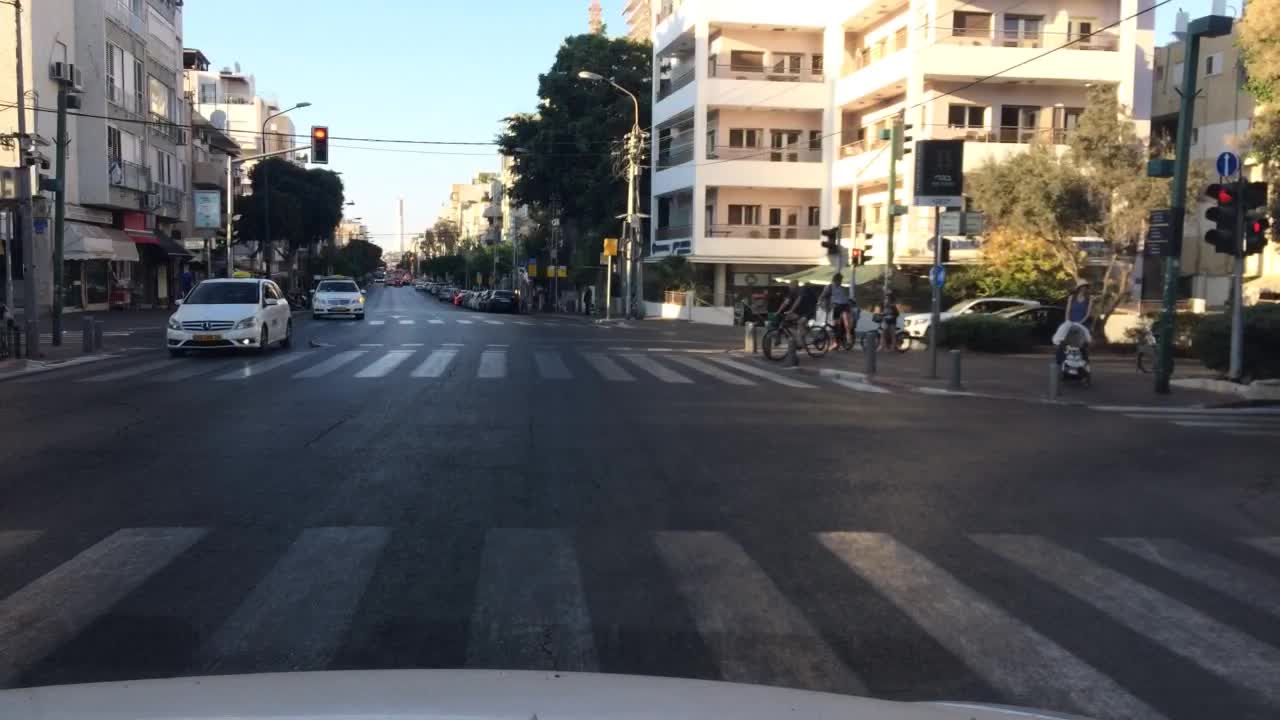bike: (764, 310, 830, 359), (822, 307, 864, 353), (867, 319, 911, 352)
car: (162, 275, 297, 359), (905, 295, 1032, 338), (988, 304, 1088, 333), (311, 276, 366, 319), (486, 289, 518, 313), (463, 287, 486, 304), (386, 270, 407, 286), (477, 287, 493, 304), (417, 281, 438, 293), (455, 287, 472, 301), (432, 283, 447, 296), (372, 270, 386, 283), (446, 286, 458, 298), (414, 279, 426, 289)
person: (1059, 273, 1092, 346), (582, 278, 593, 315)
rider: (822, 272, 856, 344), (778, 276, 805, 350), (877, 293, 902, 347)
traffic light: (1203, 183, 1237, 249), (1246, 181, 1269, 256), (312, 124, 328, 163), (900, 117, 914, 154), (821, 224, 837, 252), (862, 230, 872, 264), (852, 247, 859, 265)
traffic sign: (1215, 149, 1240, 174), (942, 210, 963, 235), (1141, 209, 1174, 224), (966, 213, 985, 233), (1143, 226, 1169, 240), (1148, 244, 1166, 261), (602, 236, 618, 255), (555, 264, 570, 279), (527, 258, 536, 276), (544, 266, 558, 276)
